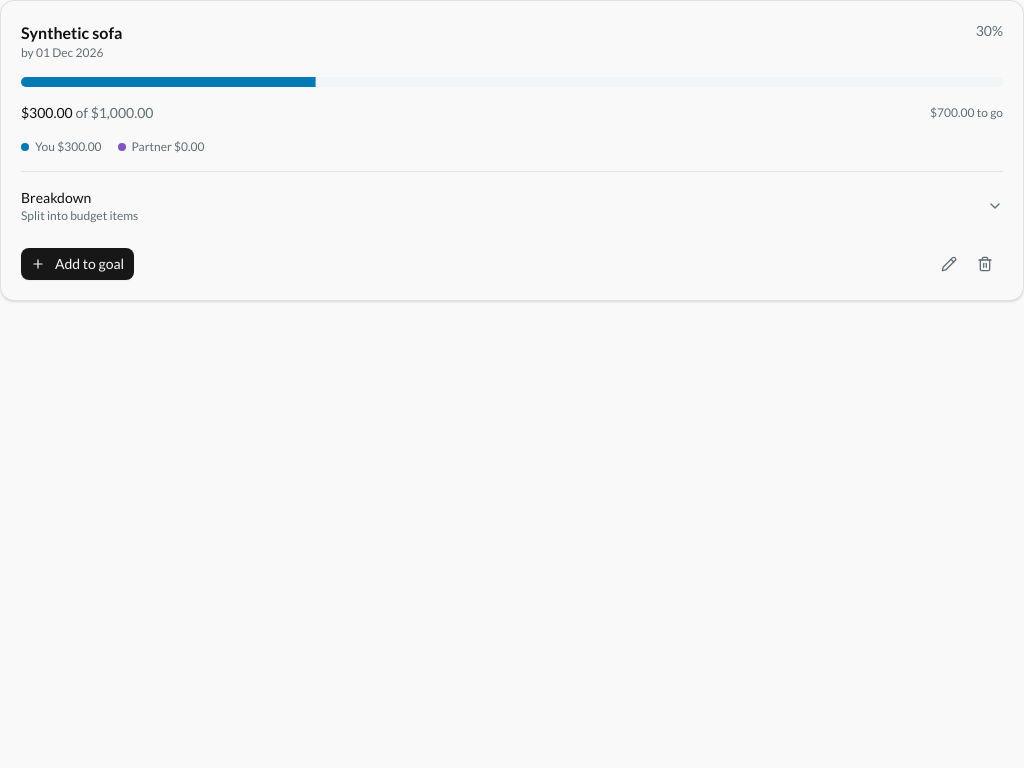
household goal editing › opens the dialog prefilled in edit mode
Click the button named "Edit goal Synthetic sofa" at (949, 264), box [931,248,967,280]
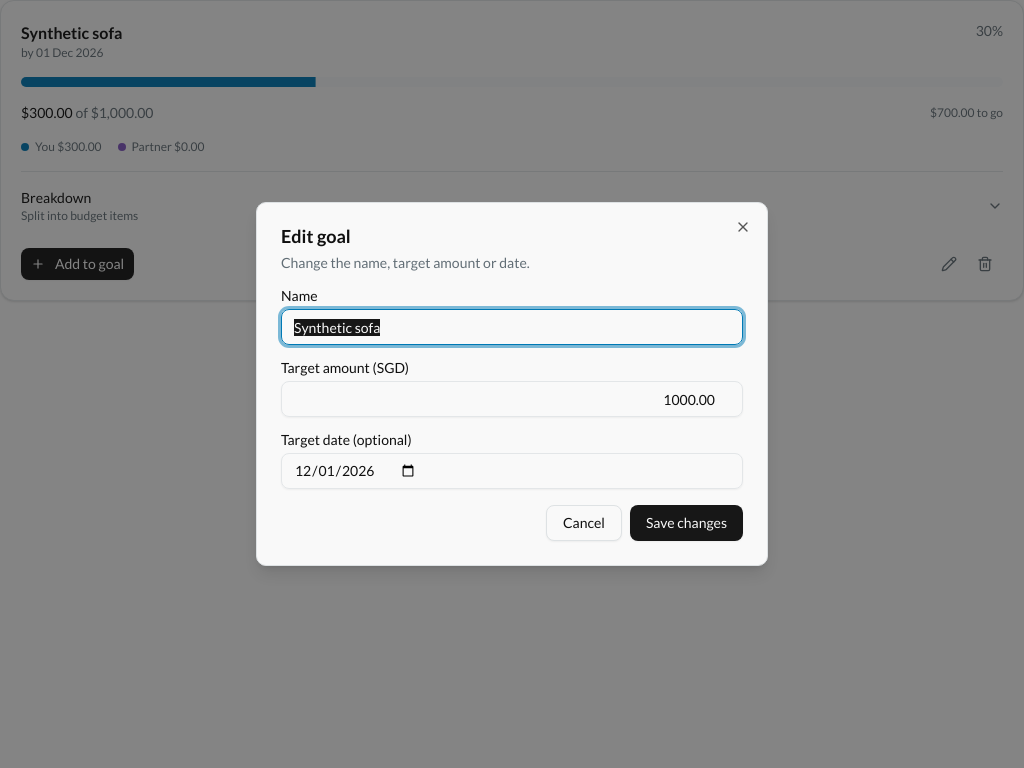
Expected: the dialog shows "Edit goal", [281,225,351,247]
Expected: the field labelled "Name" holds "Synthetic sofa", [281,309,743,345]
Expected: the number field labelled "Target amount (SGD)" holds "1000", [281,381,743,417]
